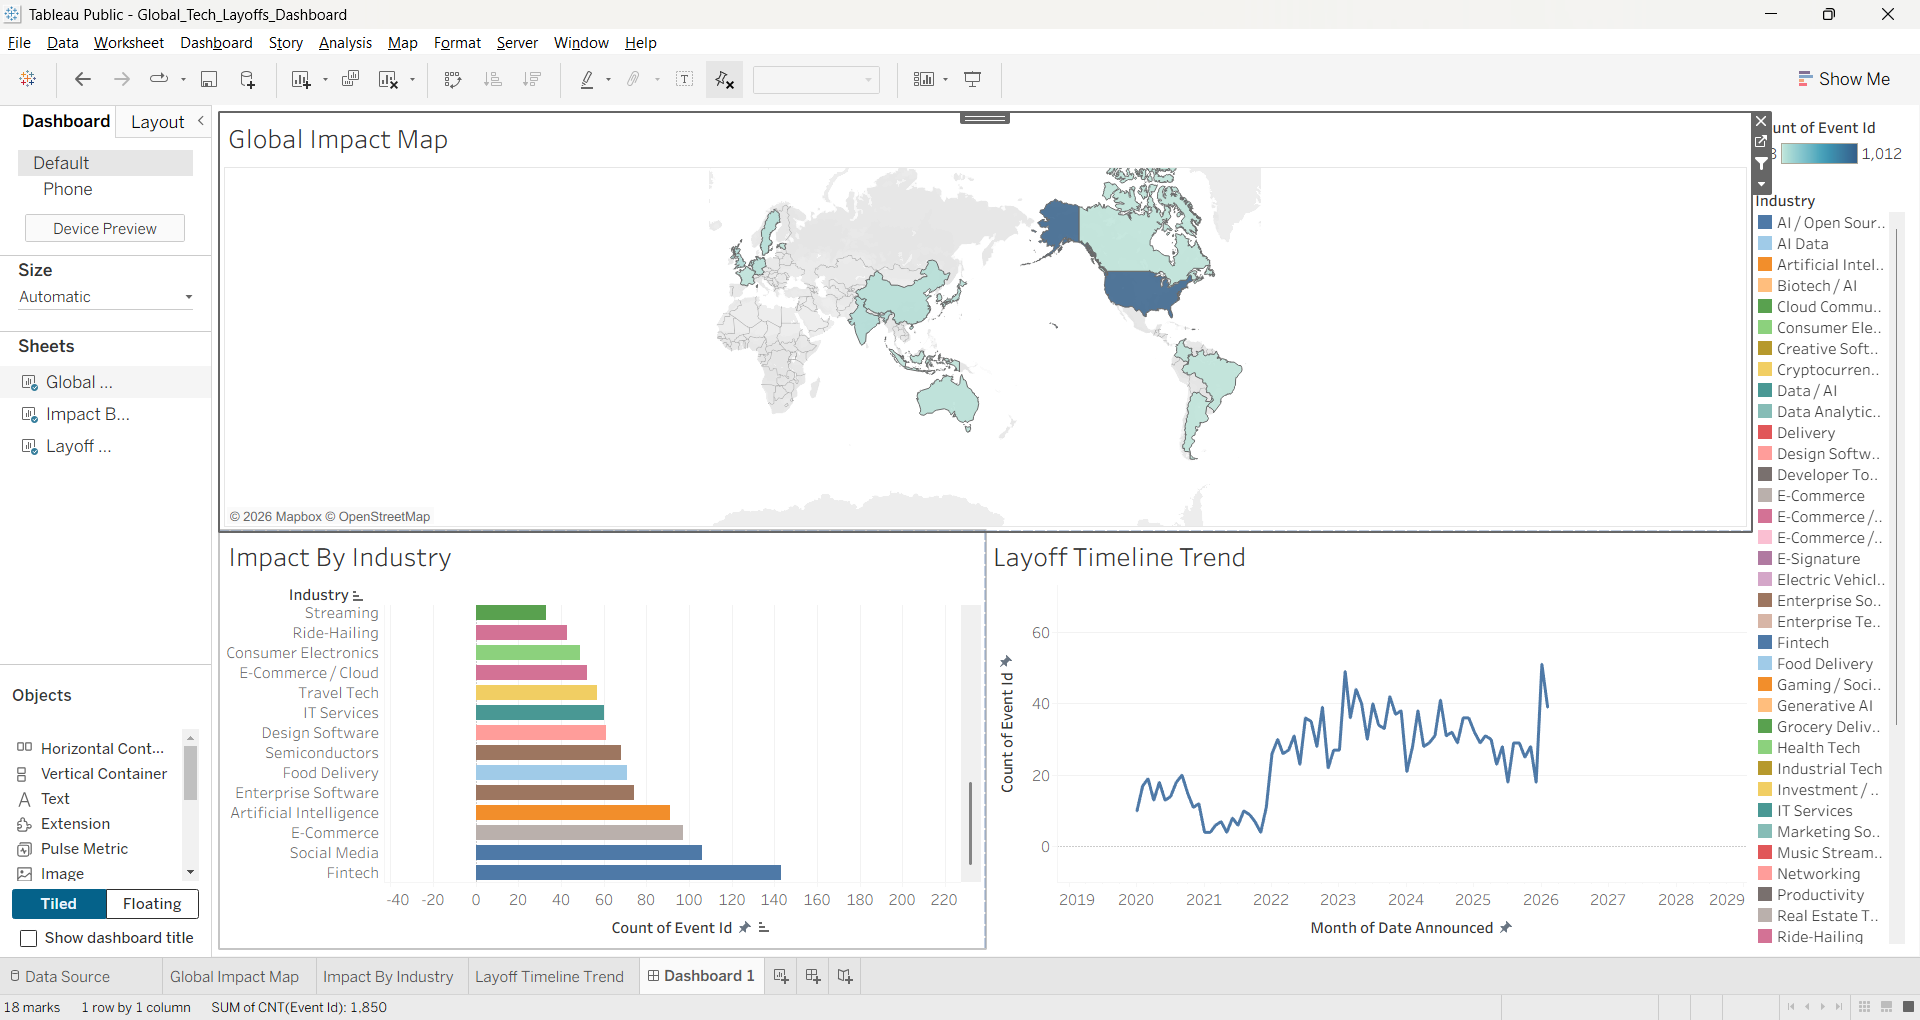

The dashboard page shown, as its layout file describes it:
{"tool":"tableau","page":{"name":"Dashboard 1","canvas":[1000,1000],"units":"permille","ordinal":0},"visuals":[{"type":"worksheet","title":"Global Impact Map ","mark":"Automatic","box":[4.7,9.4,896.9,490.6]},{"type":"legend","title":"Global Impact Map ","param":"[federated.1p1h4bo0tq4q651et5qec0kh4ro4].[cnt:event_id:qk]","box":[901.6,9.4,93.7,85.8]},{"type":"legend","title":"Impact By Industry","param":"[federated.1p1h4bo0tq4q651et5qec0kh4ro4].[none:industry:nk]","box":[901.6,95.2,93.7,109.3]},{"type":"worksheet","title":"Impact By Industry","mark":"Automatic","rows":["industry"],"cols":["event_id"],"box":[4.7,500,448.4,490.6]},{"type":"worksheet","title":"Layoff Timeline Trend","mark":"Automatic","rows":["event_id"],"cols":["date_announced"],"box":[453.1,500,448.5,490.6]}]}

Visuals, with their boxes on the dashboard's canvas, which has no fixed pixel size, in thousandths of its width and height (x1, y1, x2, y2). These are canvas units, not pixel positions in the 1920x1020 screenshot, which may show the page scaled, cropped or inside an application window:
"Global Impact Map " worksheet: 5/9/902/500
"Global Impact Map " legend: 902/9/995/95
"Impact By Industry" legend: 902/95/995/204
"Impact By Industry" worksheet: 5/500/453/991
"Layoff Timeline Trend" worksheet: 453/500/902/991
